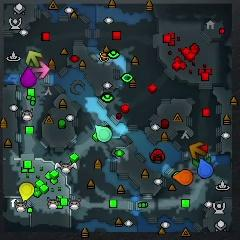p1: (198, 159, 215, 178)
p2: (95, 125, 112, 142)
p3: (20, 68, 37, 86)
p4: (19, 181, 34, 201)
p5: (174, 169, 193, 185)
x1: (32, 62, 50, 78)
x2: (25, 49, 41, 67)
x4: (193, 154, 211, 169)
x5: (190, 141, 205, 157)
